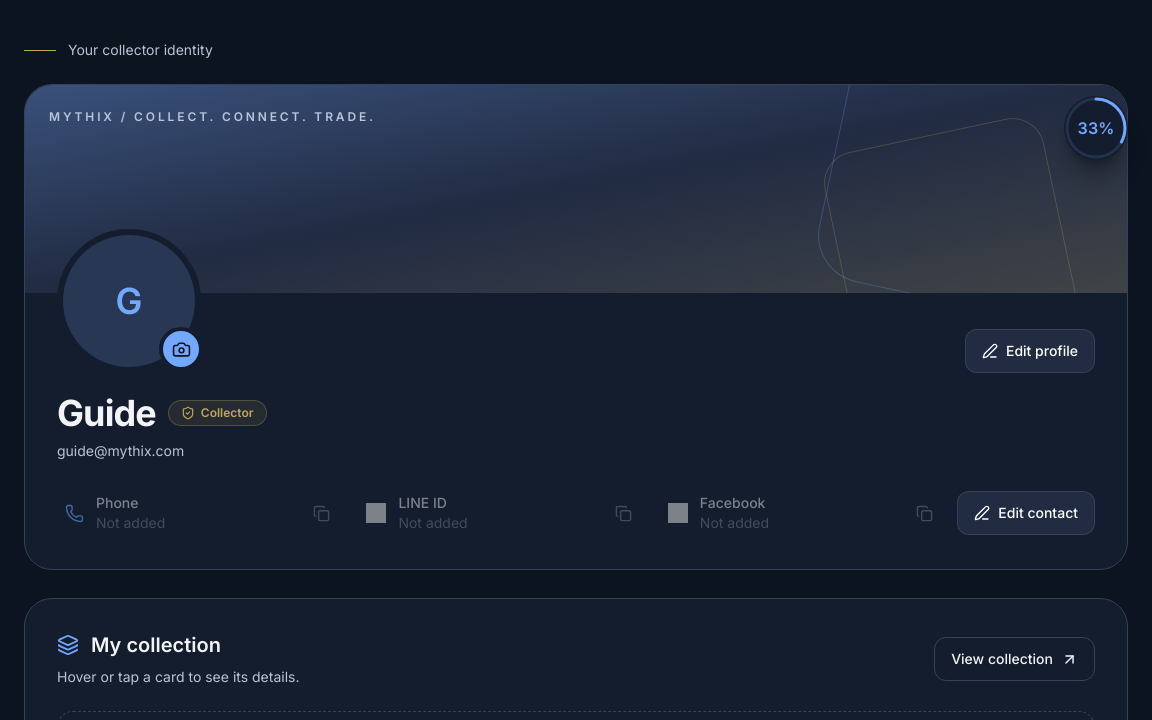
it: ProfilePage editors › calculates completion from saved details and opens the missing contact editor
The image size is (1152, 720).
Click the button named "Toggle profile completion details".
click(1096, 128)  # box [1064, 96, 1128, 160]
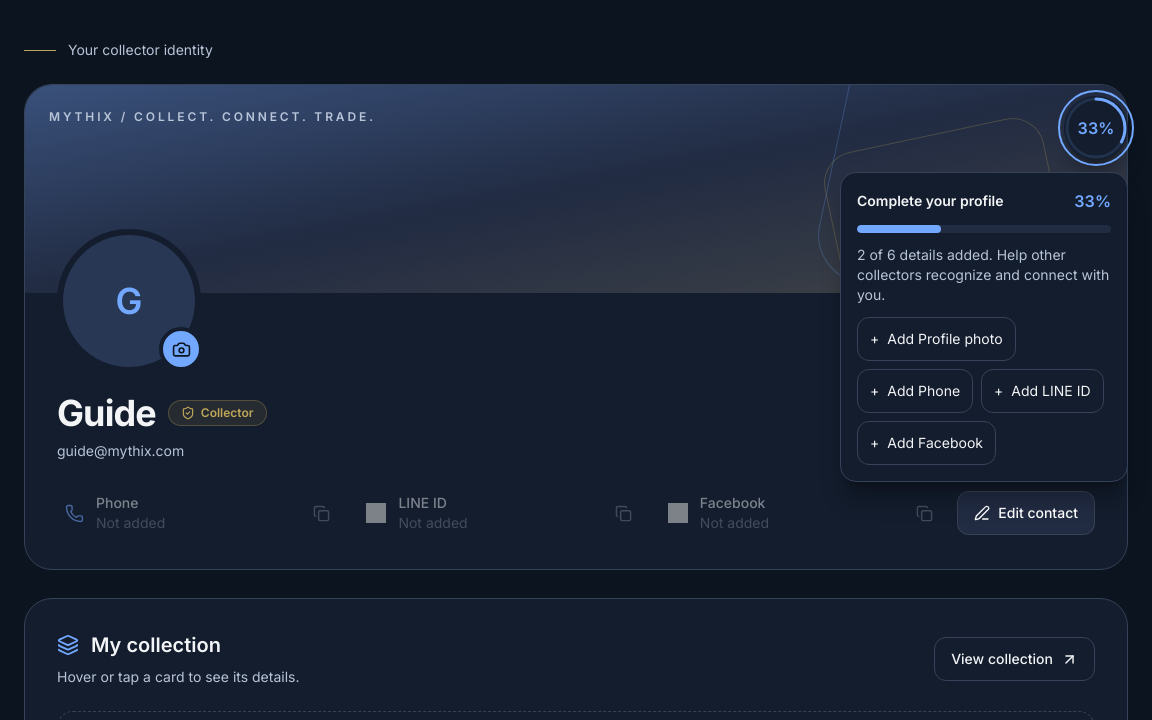
Click the button "+ Add Phone".
click(915, 391)  # box [857, 369, 973, 413]
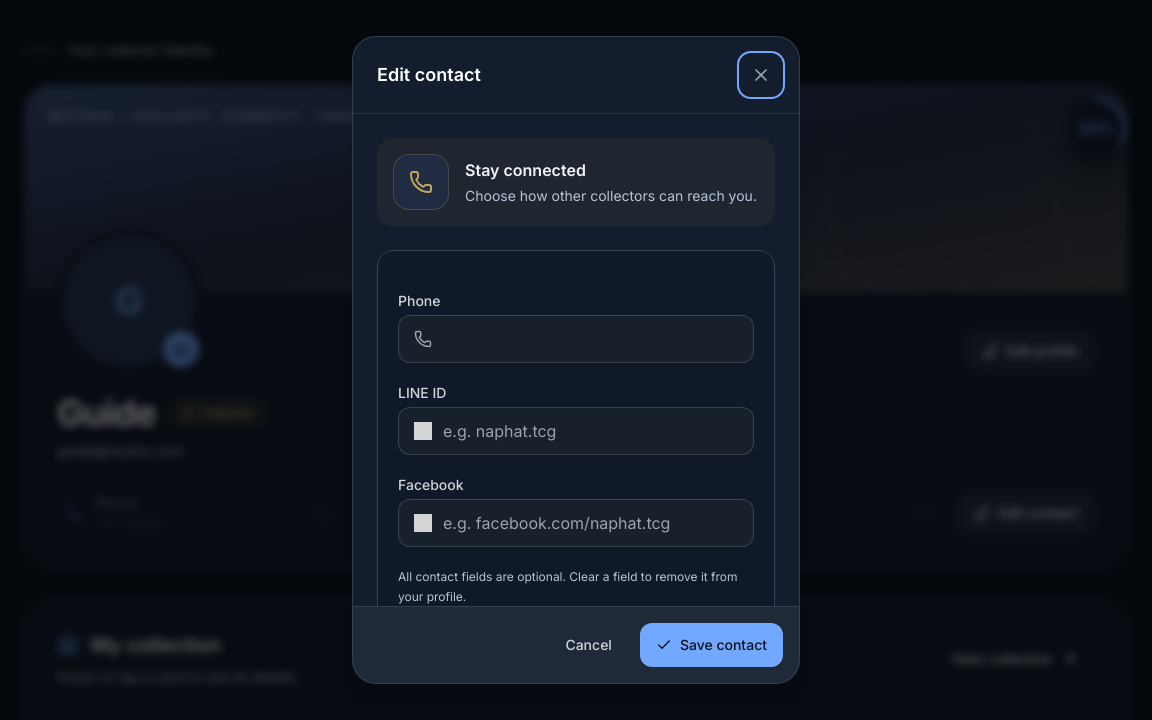
Expected: the dialog "Edit contact" is shown, [352, 36, 800, 684]
